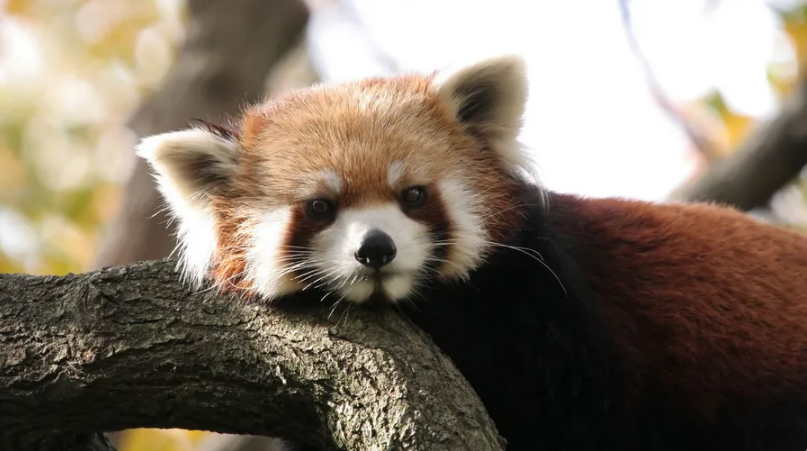red_panda: (138, 49, 578, 346)
